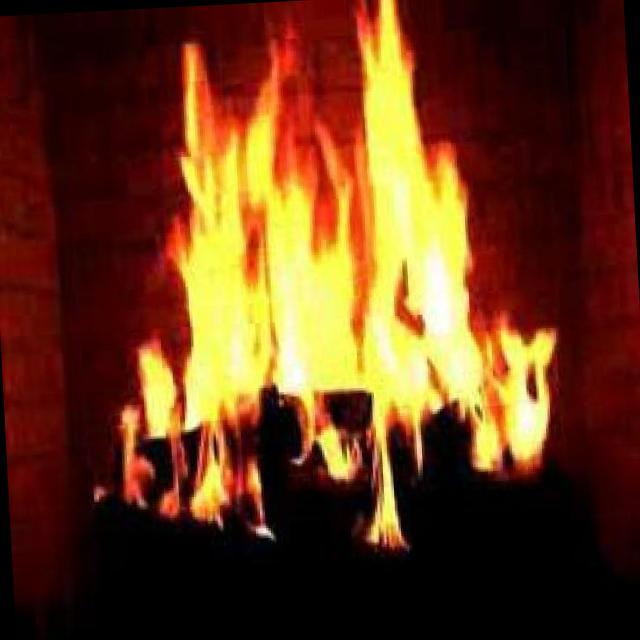Fire: (73, 0, 579, 579)
